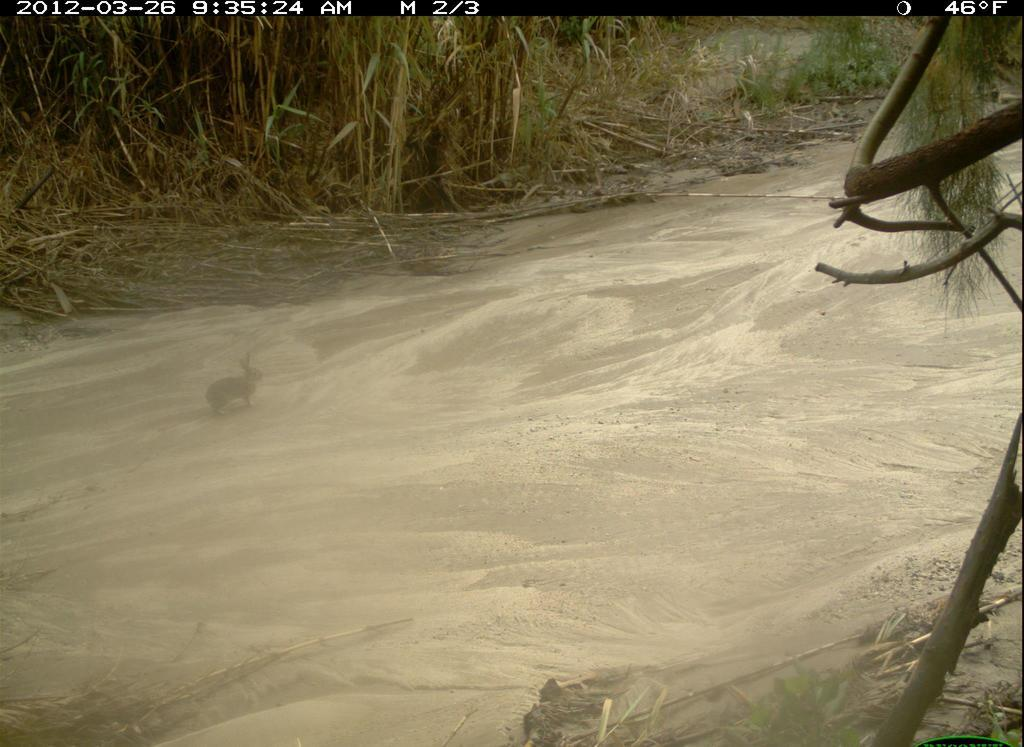rabbit: (198, 345, 272, 425)
